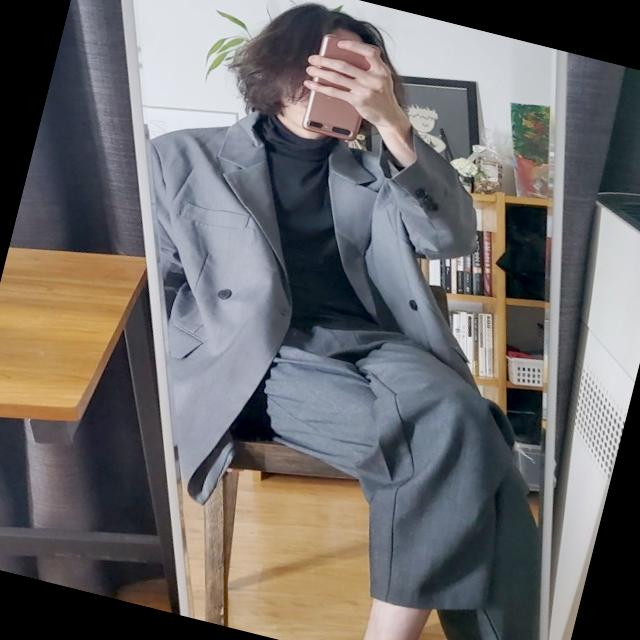blazer: (60, 67, 504, 554)
slacks: (180, 298, 624, 640)
